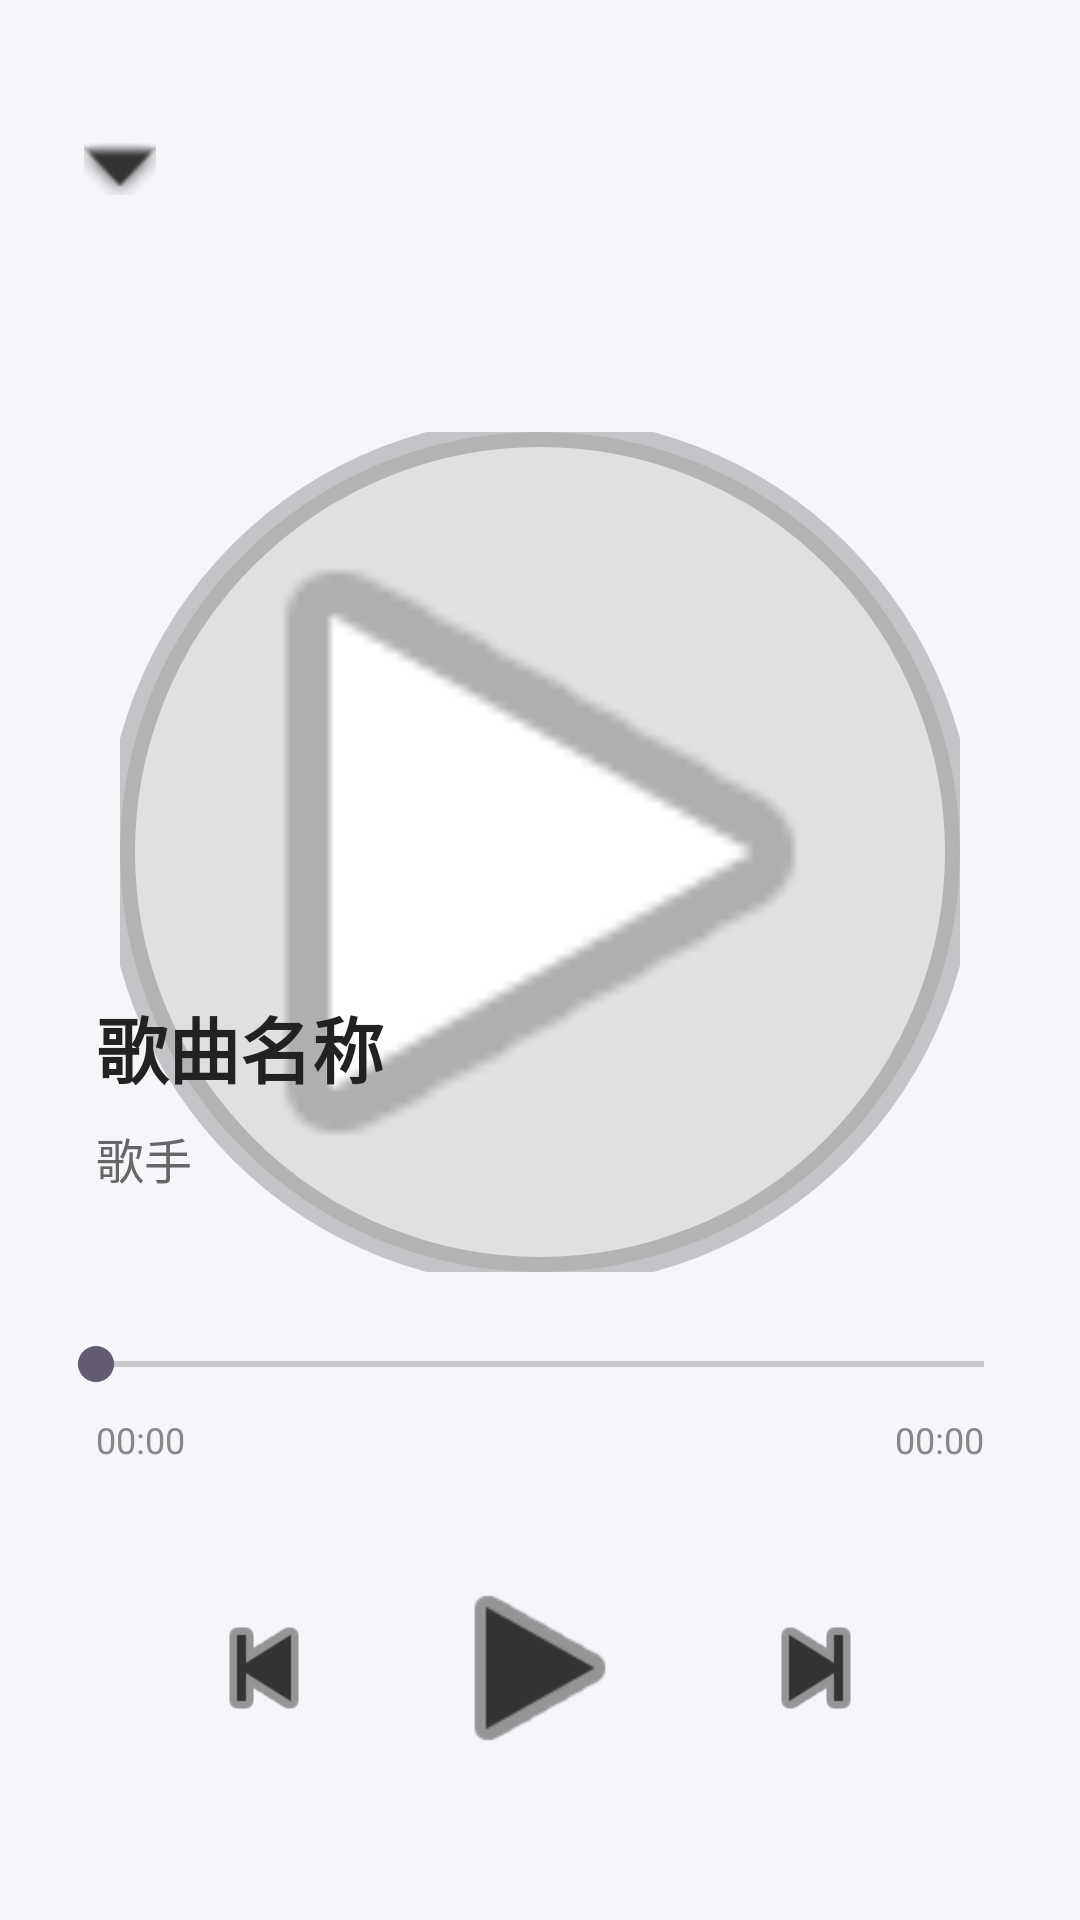

Point at icon controls on the screen. Image size 1080px x 1920px, points as (x=x, y=y).
arrow down float: (x=120, y=168)
next: (x=816, y=1668)
previous: (x=264, y=1668)
